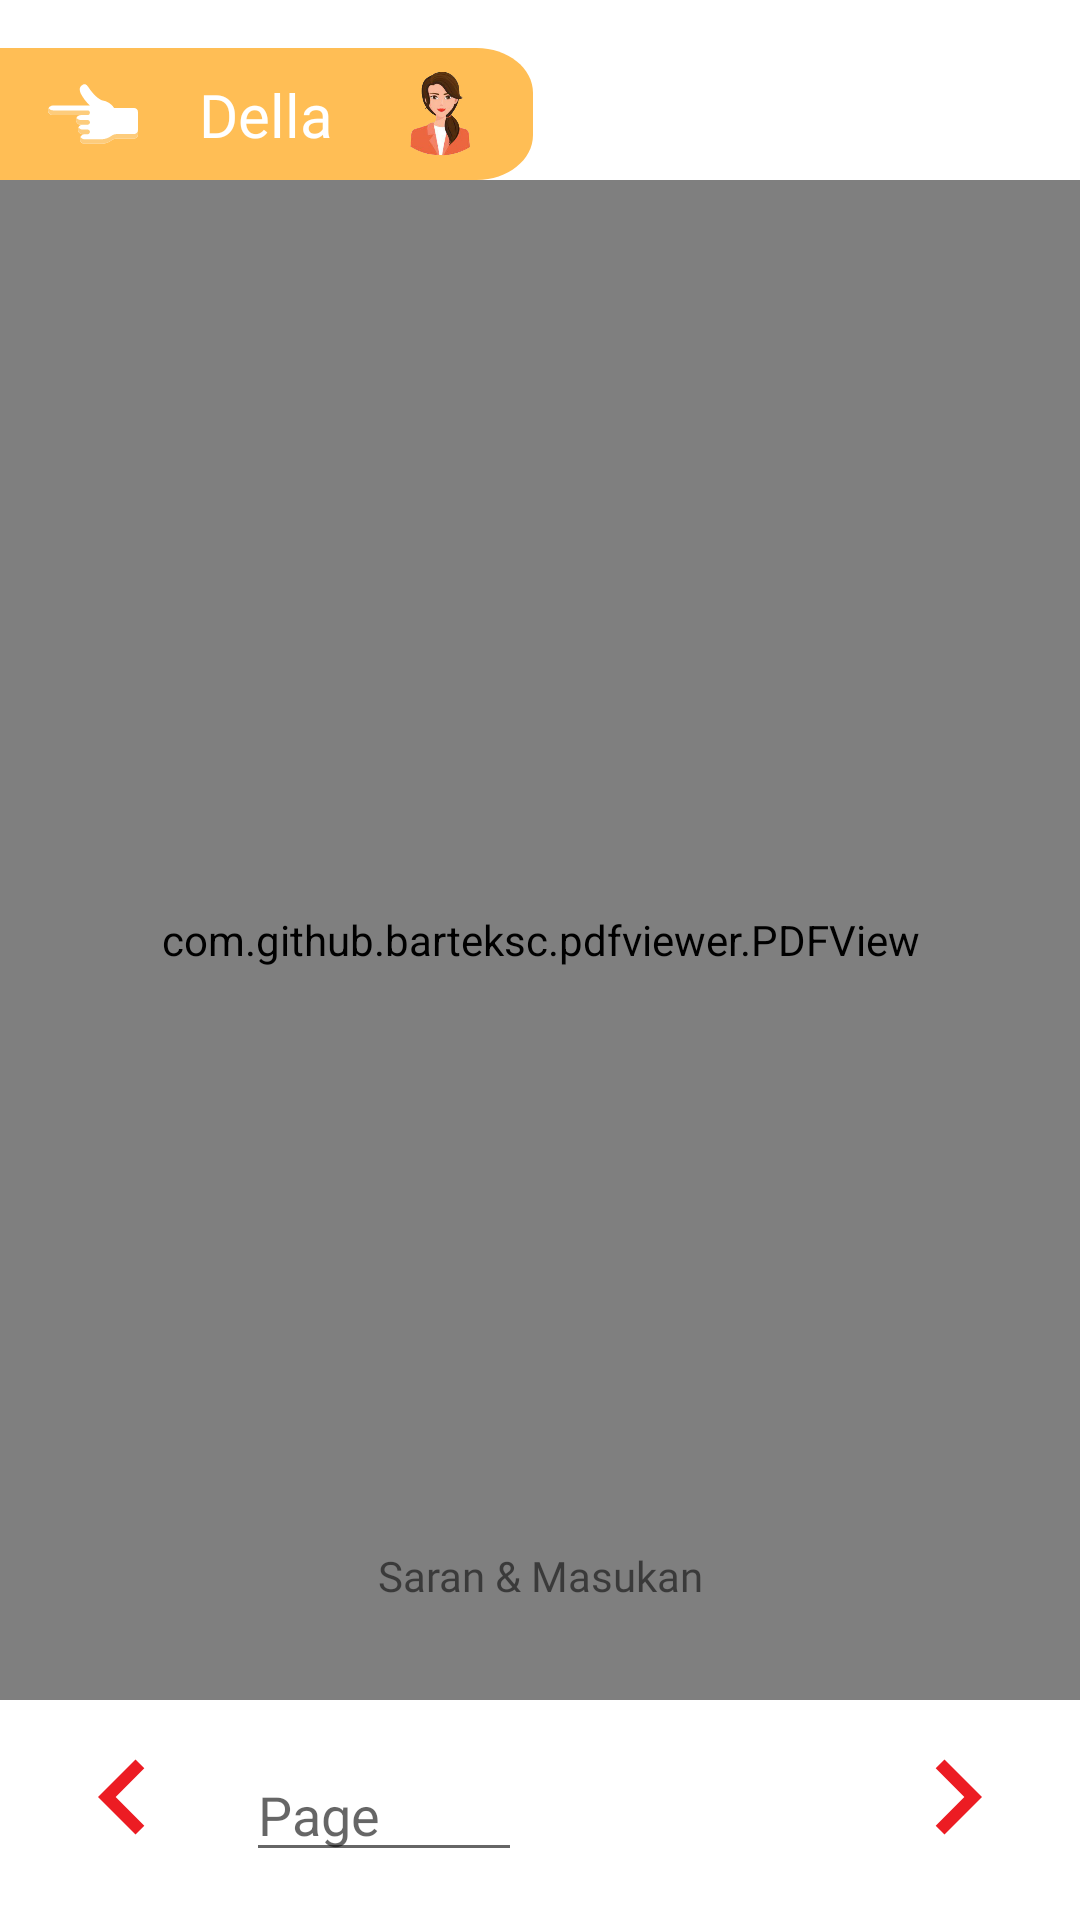

Point at icon controls on the screen. Image size 1080w x 1920h, points as (x,y).
chevron left: (121,1797)
chevron right: (959,1797)
